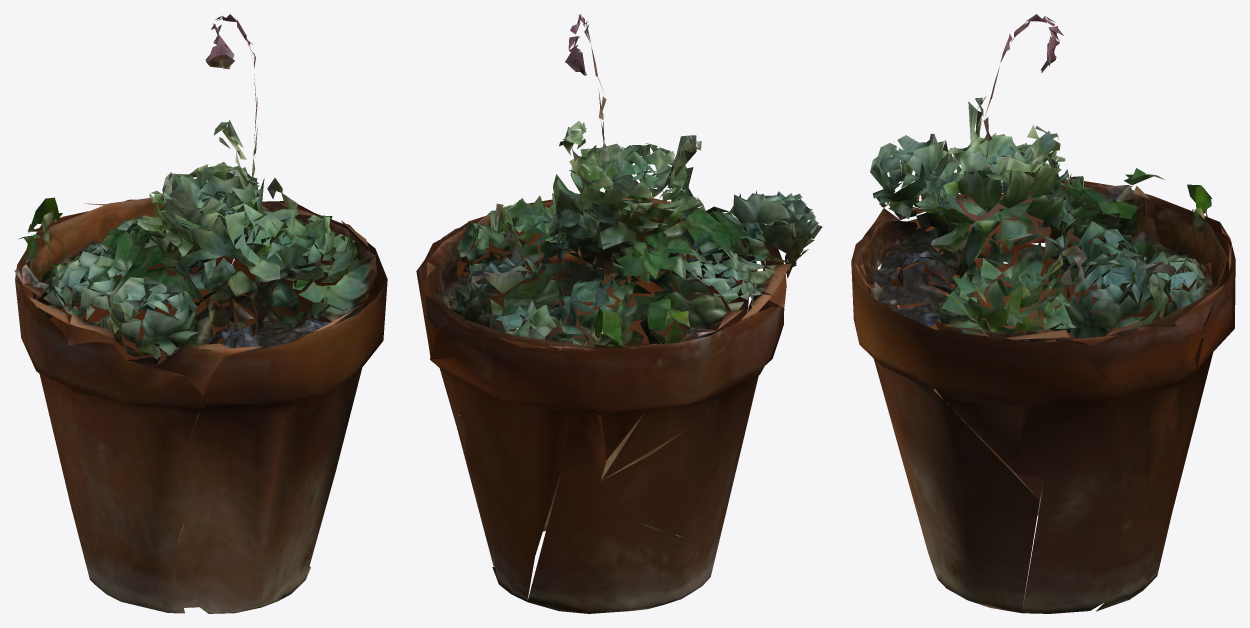
3 views of the same model, side by side, from view 1: azimuth 30°, elevation 25°; view 2: azimuth 150°, elevation 25°; view 3: azimuth 270°, elevation 25° (orthographic). The views are drawn at different scales.
Visible parts, largest first — view 1: Object_2; view 2: Object_2; view 3: Object_2.
Part boxes in pixels (x1,y1,x2,y2): Object_2: (14, 14, 387, 613); Object_2: (416, 14, 822, 613); Object_2: (851, 14, 1235, 613).
Bounding box in the file's own units: 2.15 × 3.54 × 2.17.
Materials: 1 (1 with a texture image).
